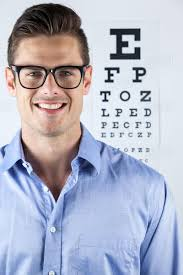Glasses: (4, 59, 89, 94)
